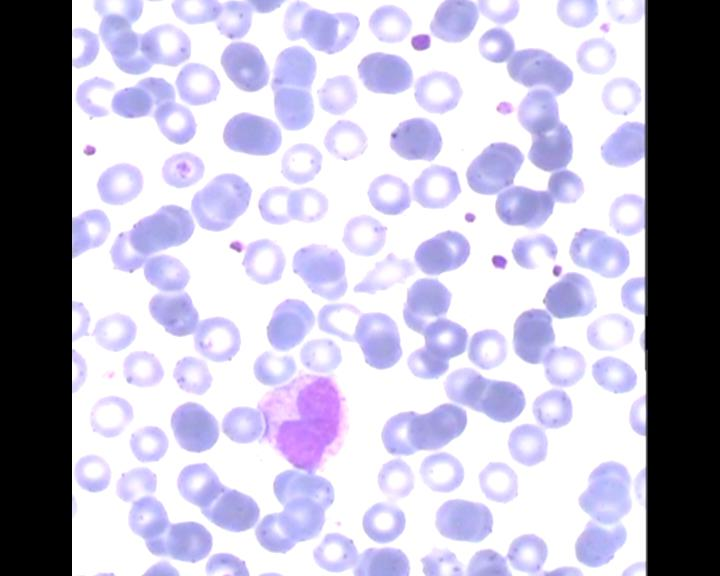mono: (257, 371, 352, 476)
